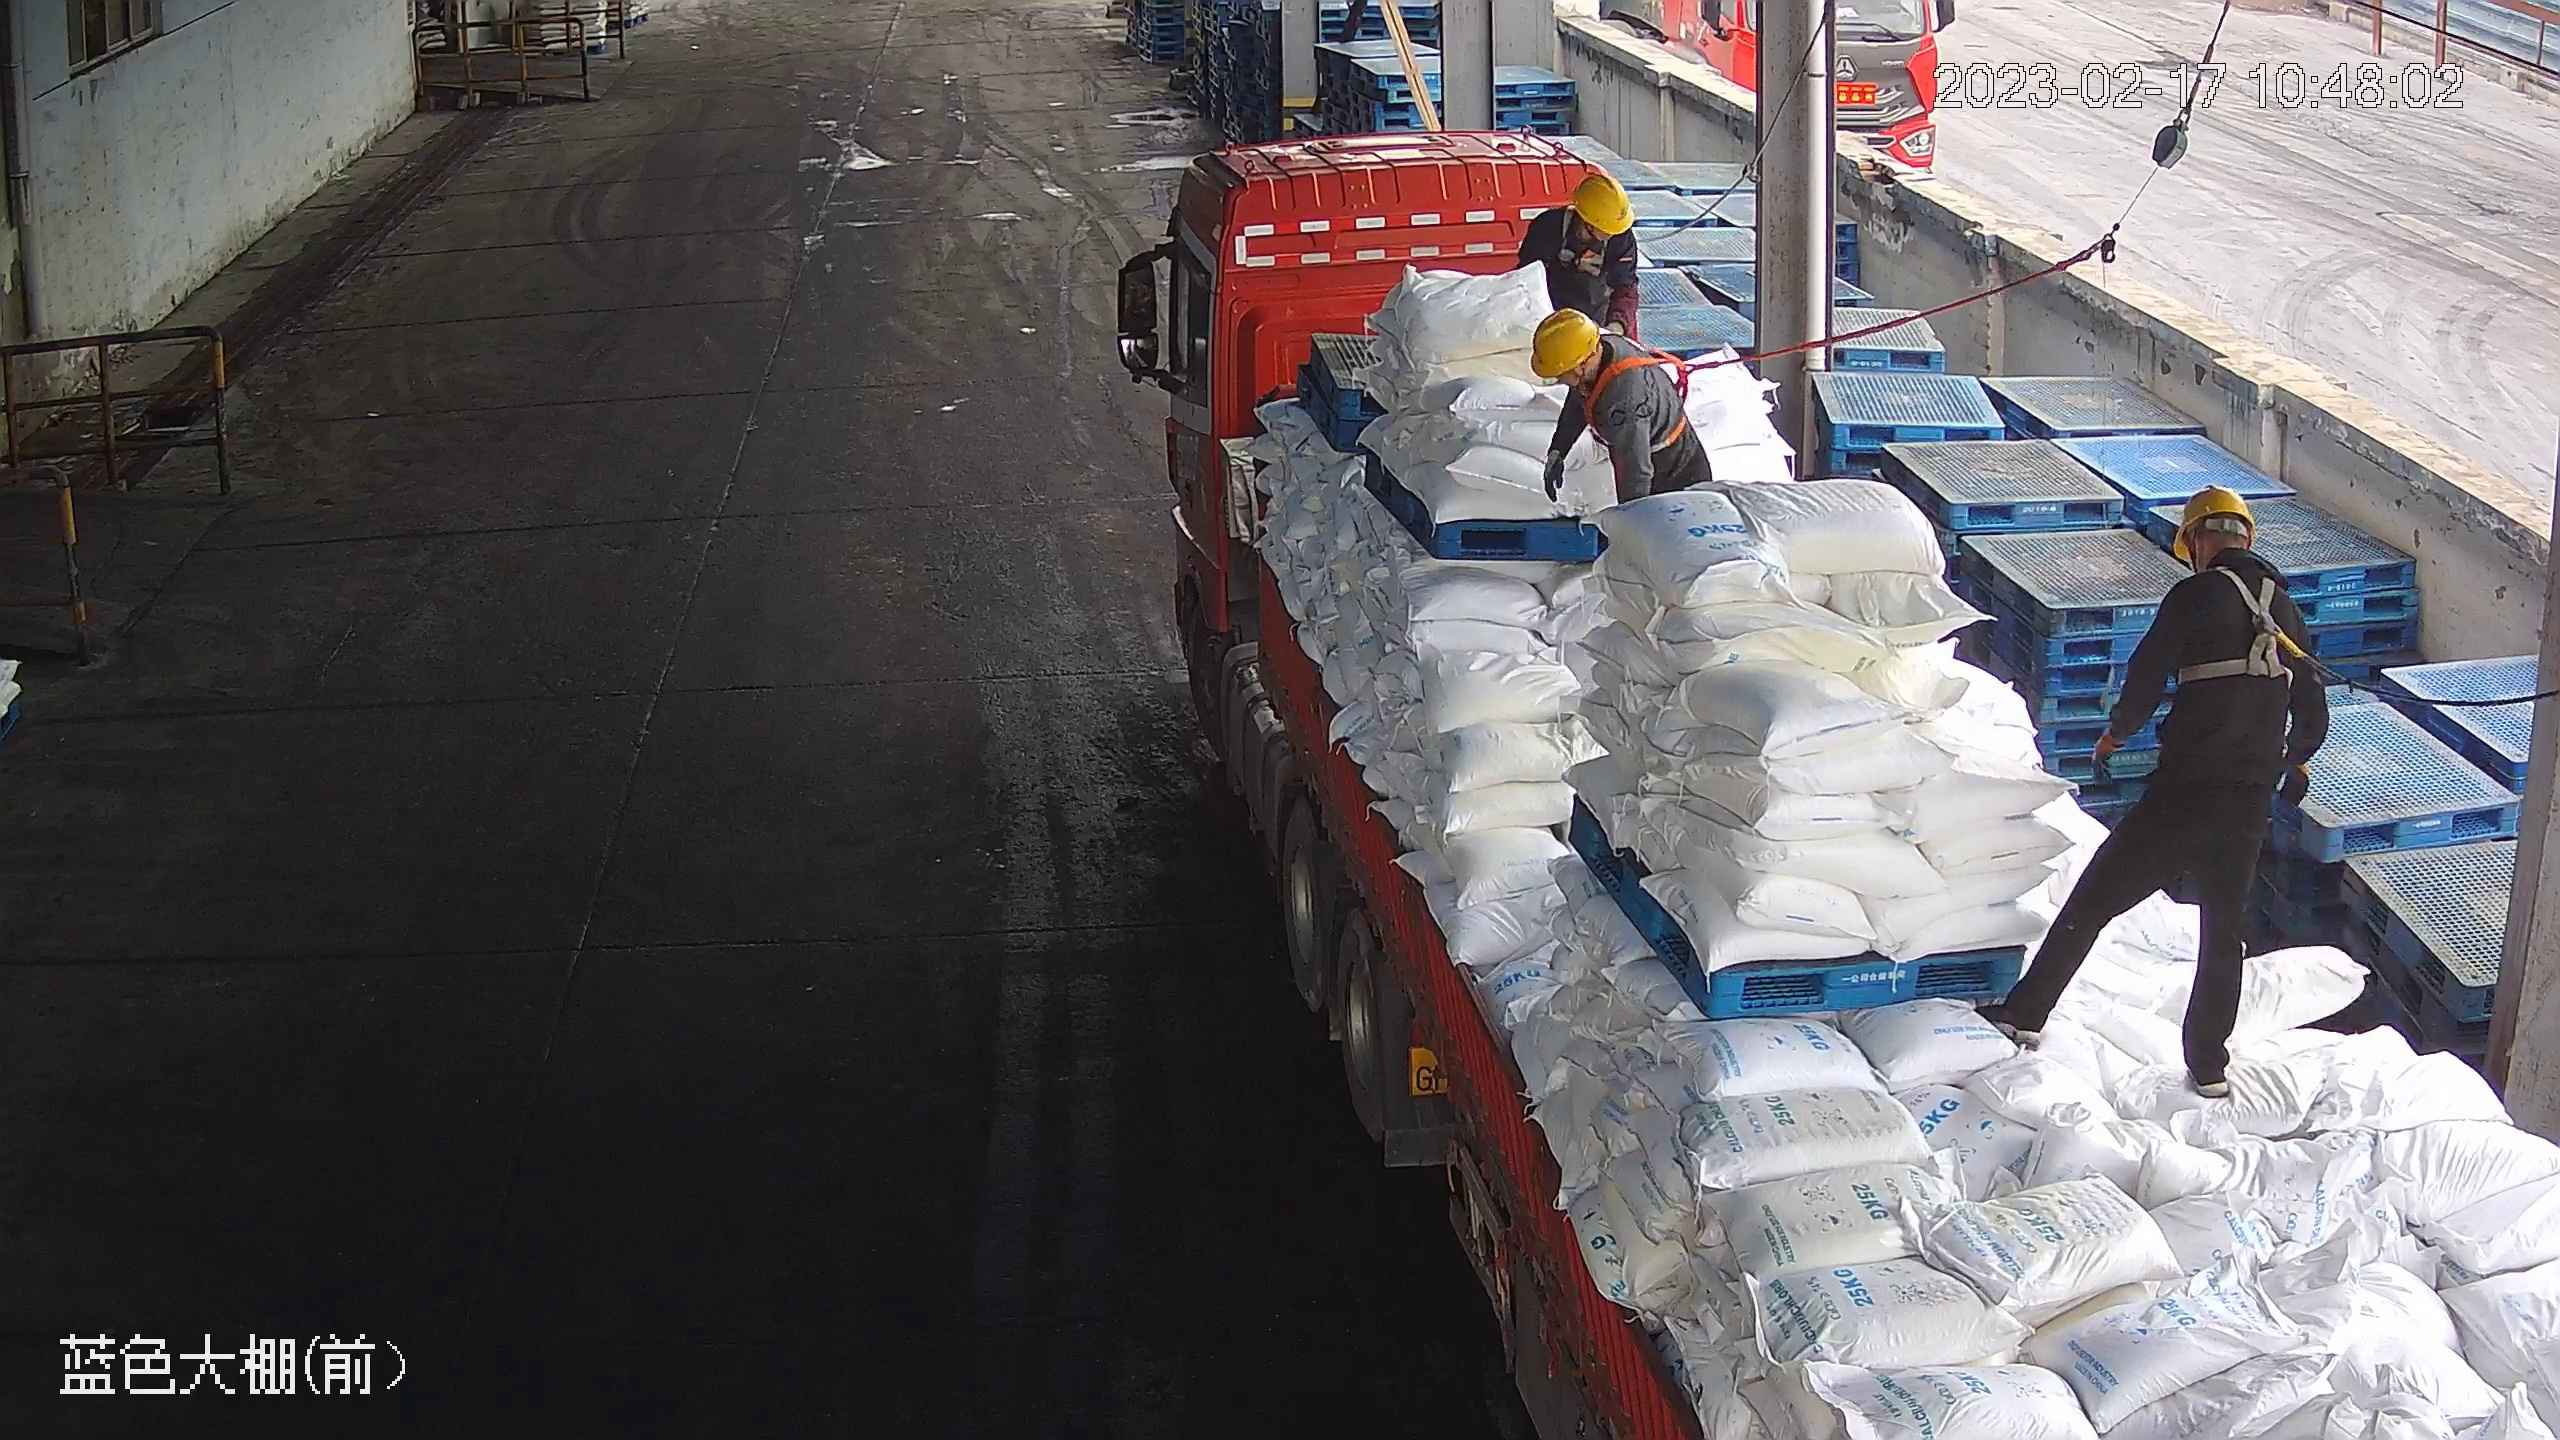belt: (2179, 558, 2299, 682), (1578, 346, 1706, 459), (1554, 211, 1638, 270)
head: (2150, 487, 2309, 652), (1529, 308, 1675, 415), (1522, 169, 1636, 270)
helmet: (2167, 482, 2257, 559), (1528, 308, 1603, 380), (1568, 171, 1636, 239)
people: (1979, 483, 2331, 1092), (1530, 312, 1722, 516)
truck: (1161, 162, 2553, 1435)
